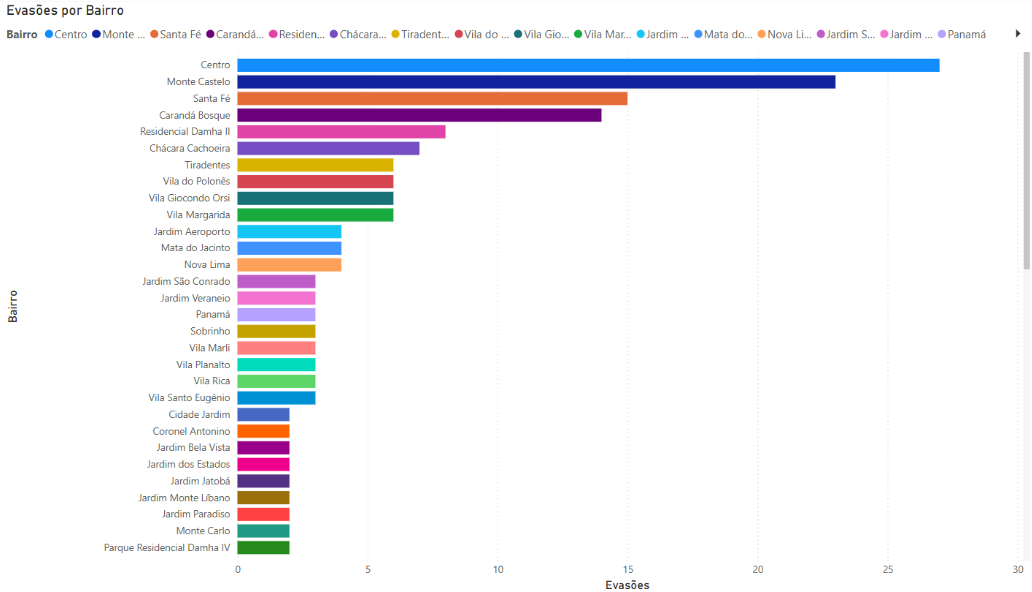

The page's visual inventory and layout, read from the dashboard file:
{"tool":"powerbi","page":{"name":"Página 7","canvas":[1280,720],"ordinal":9},"visuals":[{"type":"barChart","title":"Evasões por Bairro","fields":{"Category":["Dimensão Aluno.Bairro"],"Y":["Fato Matrícula.Evasões"],"Series":["Dimensão Aluno.Bairro"]},"box":[11.1,0,1254.1,720.3],"z":0}]}

Visuals, with their boxes in screenshot pixels (x1, y1, x2, y2), scaled from the page's 1280x720 canvas onto the 1032x592 screenshot:
"Evasões por Bairro" barChart: region(9, 0, 1020, 591)
